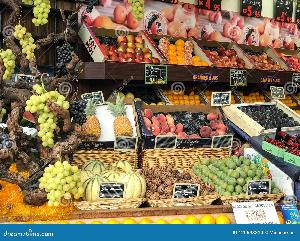apple: (93, 30, 155, 64), (199, 42, 246, 68), (248, 43, 282, 73)
grape: (11, 74, 68, 154), (31, 146, 78, 214)
melon: (84, 156, 138, 204)
orange: (159, 38, 209, 66), (163, 86, 204, 102), (274, 89, 298, 107), (239, 92, 267, 104)
peach: (141, 107, 221, 139)
pineapple: (82, 105, 130, 145)
plum: (198, 148, 262, 200)
